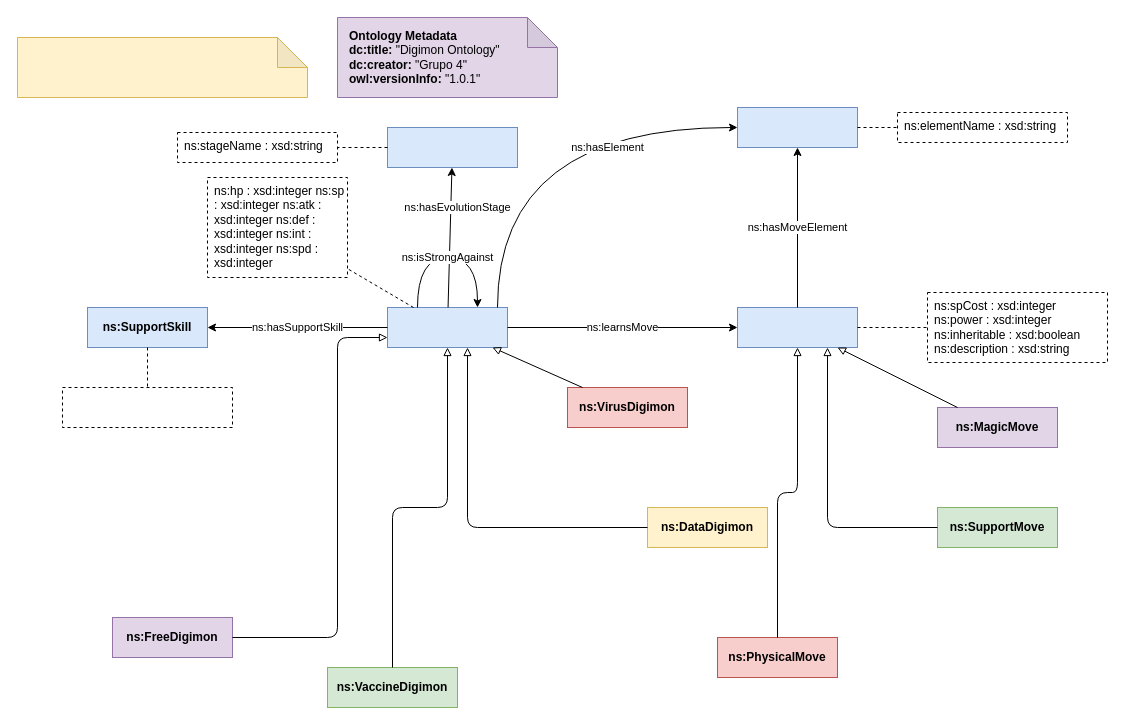
Image size: 1125x725. Some labels were removed from this diagram. The centre of each missing label's shape, as x and y in pixels:
"ns: http://example.org/digimon# xsd: http://www.w3.org/2001/XMLSchema#" belongs at pixel 162 67.
"ns:Digimon" belongs at pixel 447 327.
"ns:Element" belongs at pixel 797 127.
"ns:EvolutionStage" belongs at pixel 452 147.
"ns:Move" belongs at pixel 797 327.
"ns:skillName : xsd:string ns:description : xsd:string" belongs at pixel 147 407.
